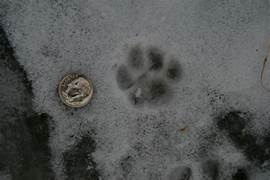fox: (93, 98, 191, 169), (82, 29, 171, 86)
